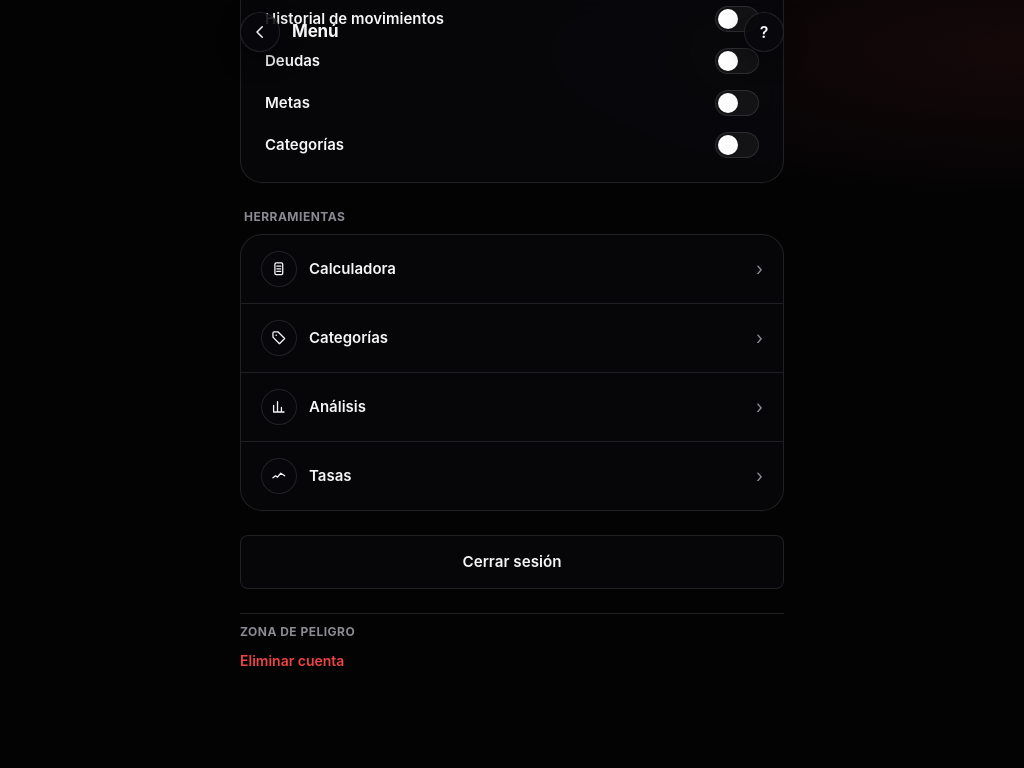
Test case: SettingsMenuMain - eliminar cuenta › muestra un error si el borrado falla y no redirige
(page scrolled)
Click the button with class "delete-account-trigger": (292, 661) [240,650,344,672]
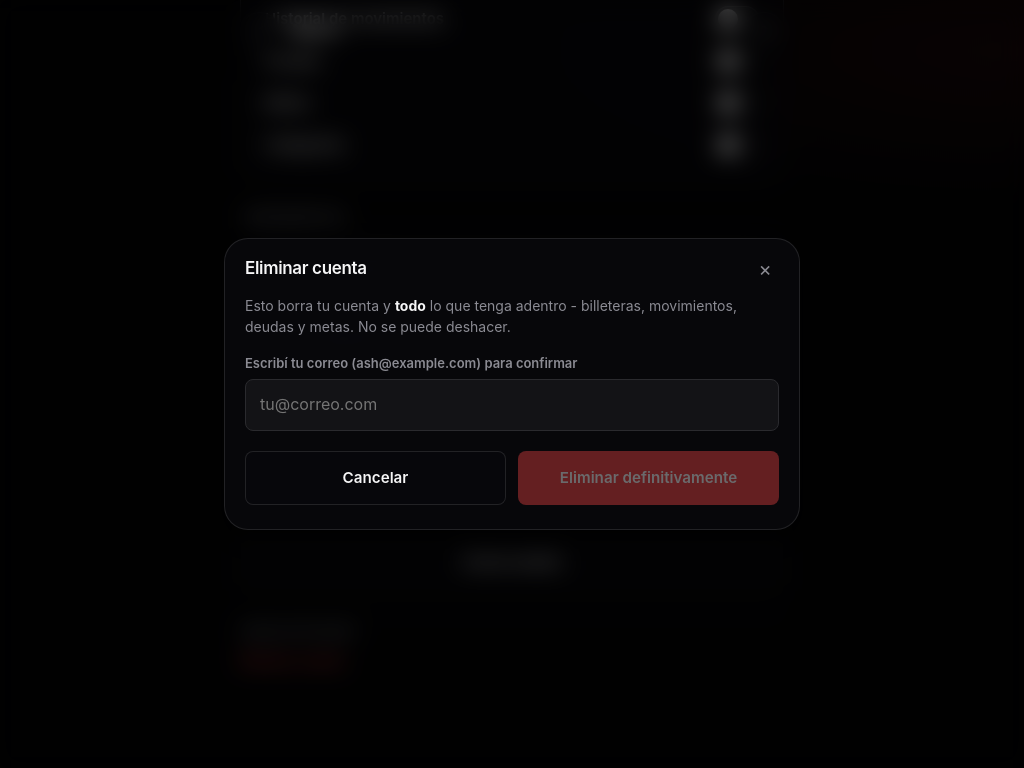
In the field labelled "Escribí tu correo (ash@example.com) para confirmar": (512, 405) [245,379,779,431], type "ash@example.com"
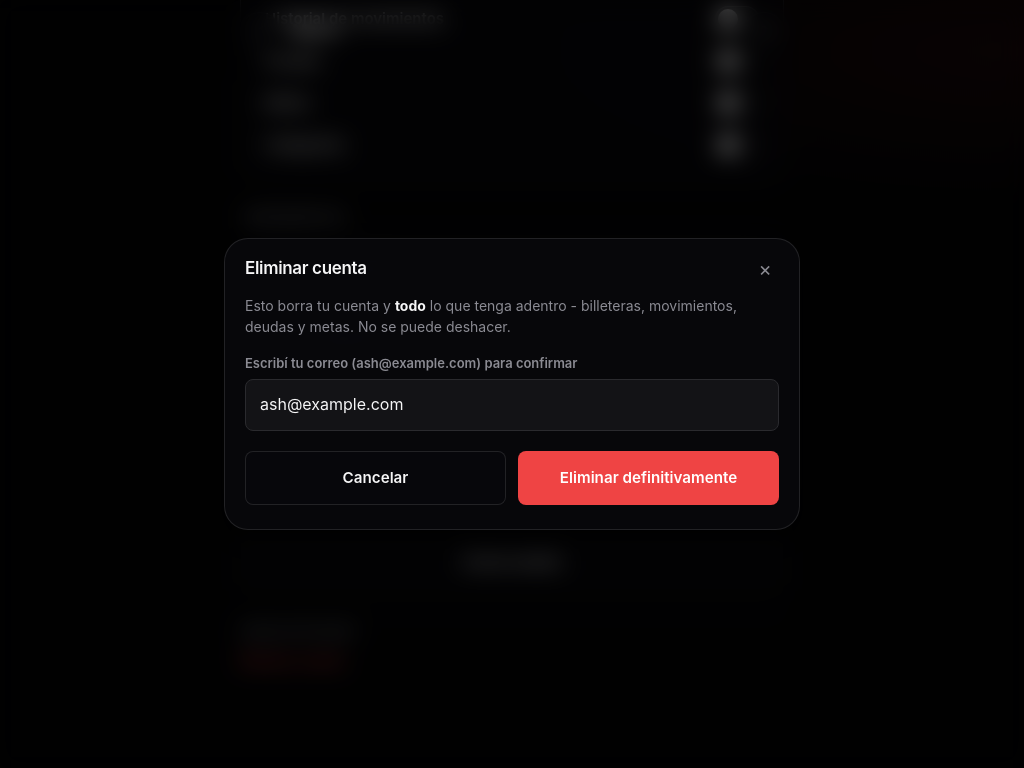
Click the button with class "delete-confirm-button": (648, 478) [518,451,779,505]
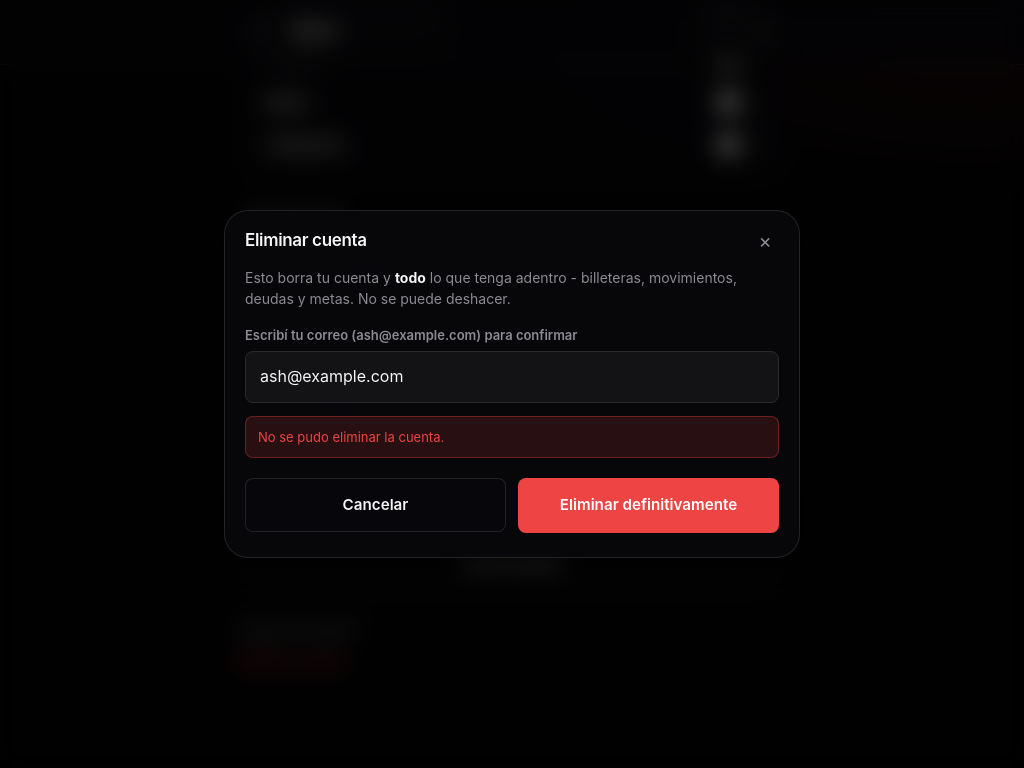
Result: the text "No se pudo eliminar la cuenta." is shown at [245,416,779,458]
